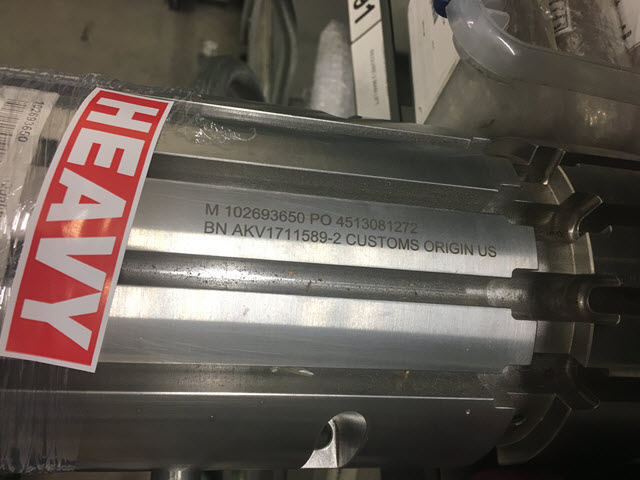character: (214, 220, 232, 237), (203, 203, 222, 218), (306, 212, 322, 228), (242, 223, 257, 240), (356, 231, 370, 249), (476, 243, 489, 261), (269, 207, 282, 225), (285, 209, 299, 225), (463, 240, 476, 257), (333, 214, 346, 231), (319, 212, 333, 227), (204, 219, 215, 238), (448, 239, 461, 255), (386, 235, 399, 251), (424, 237, 436, 254), (273, 225, 285, 242), (232, 222, 244, 239), (251, 207, 263, 224), (256, 223, 267, 241), (278, 207, 289, 225), (397, 236, 410, 251), (283, 227, 296, 242), (486, 243, 498, 259), (377, 233, 389, 249), (264, 225, 276, 241), (241, 204, 253, 220), (434, 238, 445, 255), (377, 217, 388, 234), (367, 233, 379, 248), (346, 232, 358, 247), (343, 214, 355, 229), (260, 208, 271, 224), (292, 226, 302, 243), (409, 237, 420, 252), (368, 217, 379, 232), (223, 203, 234, 218), (302, 227, 312, 243), (296, 208, 306, 224), (317, 230, 328, 244), (310, 229, 319, 245), (233, 205, 244, 218), (332, 231, 342, 245), (400, 220, 410, 234), (352, 216, 362, 230), (361, 216, 370, 231), (409, 221, 419, 234), (325, 230, 334, 244), (394, 220, 403, 234), (387, 220, 396, 234), (444, 241, 451, 255), (459, 240, 465, 256)
